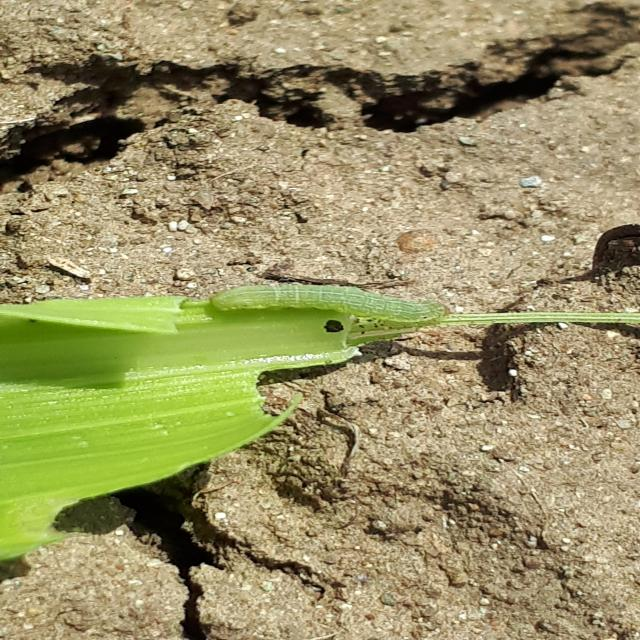armyworm: (211, 284, 453, 324)
